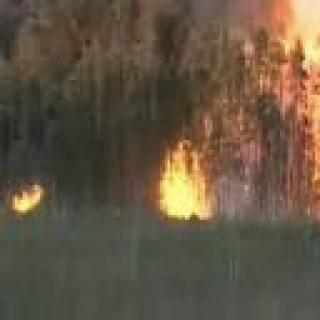fire: (286, 48, 320, 224), (152, 137, 224, 220), (10, 178, 50, 211)
